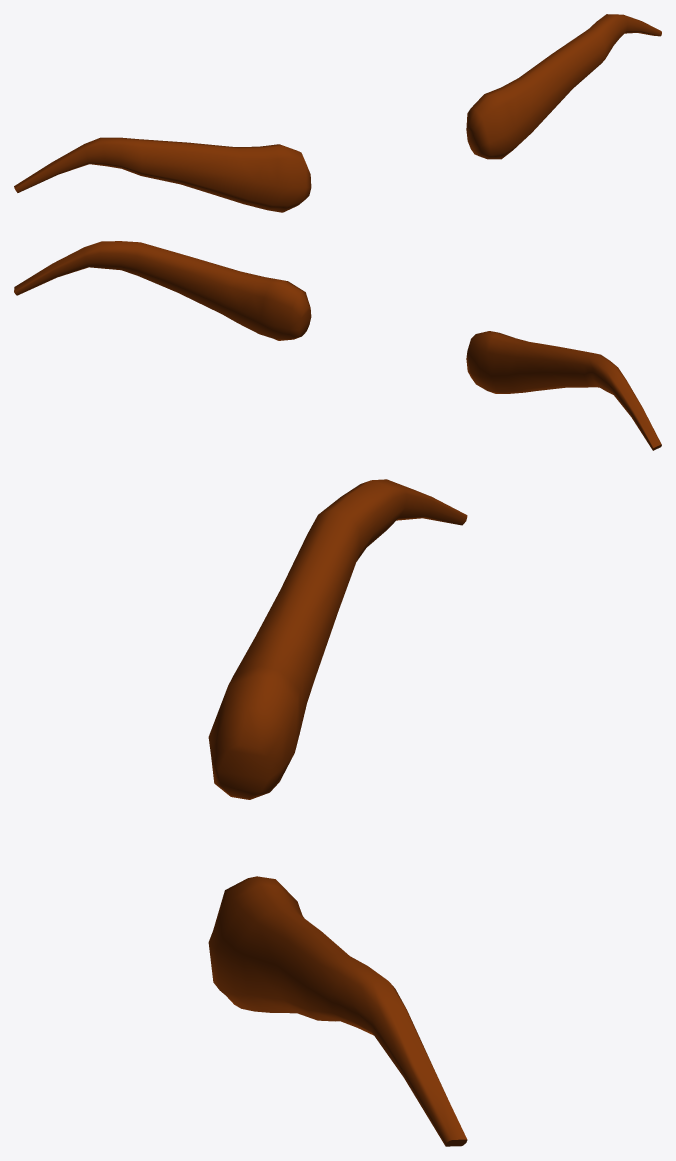
The model's file is Eyebrows_12_02.fbx.
3 renders of one model, top to bottom at view 1: azimuth 30°, elevation 25°; view 2: azimuth 150°, elevation 25°; view 3: azimuth 270°, elevation 25°, orthographic. The views are drawn at different scales.
Visible parts, largest first — view 1: Eyebrows_12_02; view 2: Eyebrows_12_02; view 3: Eyebrows_12_02.
Part boxes in pixels (x1=…): Eyebrows_12_02: x1=14, y1=14, x2=661, y2=212; Eyebrows_12_02: x1=14, y1=241, x2=661, y2=450; Eyebrows_12_02: x1=208, y1=479, x2=467, y2=1146.
Size of the model in its own units: 19.63 by 2.48 by 3.4.
